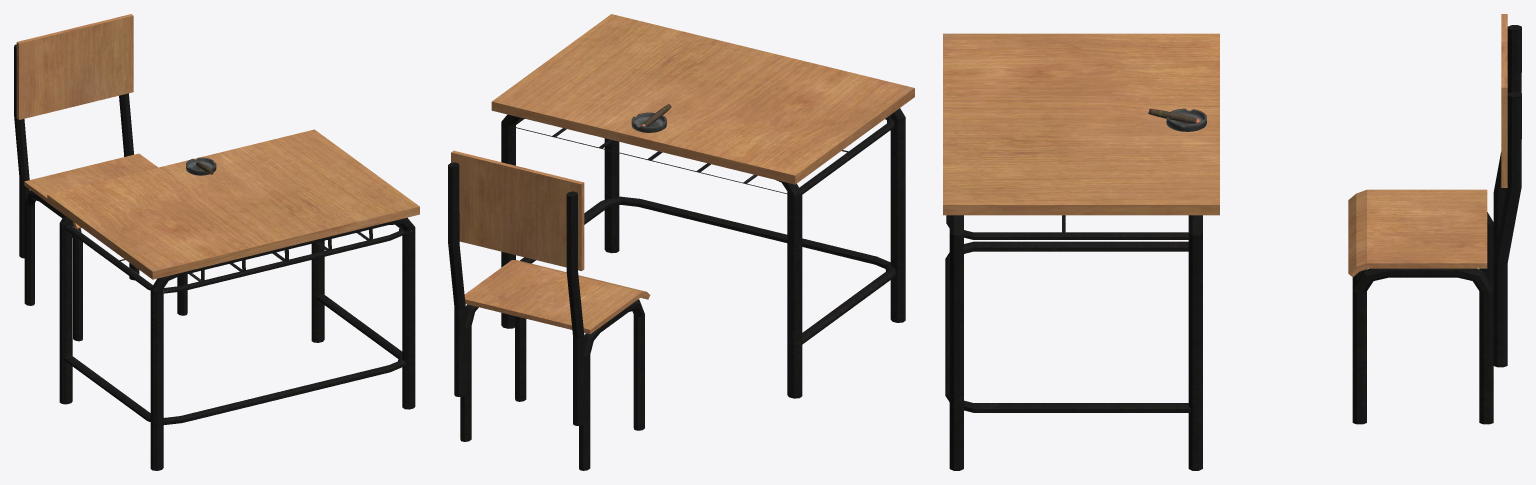
The model's file is table_chair.FBX.
3 views of the same model, side by side, from view 1: azimuth 30°, elevation 25°; view 2: azimuth 150°, elevation 25°; view 3: azimuth 270°, elevation 25° (orthographic). The views are drawn at different scales.
Parts seen in each view (by area): view 1: Cube_001, Cube; view 2: Cube_001, Cube, Ashray; view 3: Cube_001, Cube, Ashray.
Boxes of the visible parts, x1,y1,x2,y2 form: Cube_001: (47, 129, 419, 470); Cube: (14, 14, 187, 341); Cube_001: (491, 14, 914, 398); Cube: (448, 150, 650, 470); Ashray: (631, 112, 666, 132); Cube_001: (943, 33, 1219, 470); Cube: (1348, 14, 1521, 424); Ashray: (1166, 108, 1206, 131).
Size of the model in its own units: 112 by 103 by 161.
